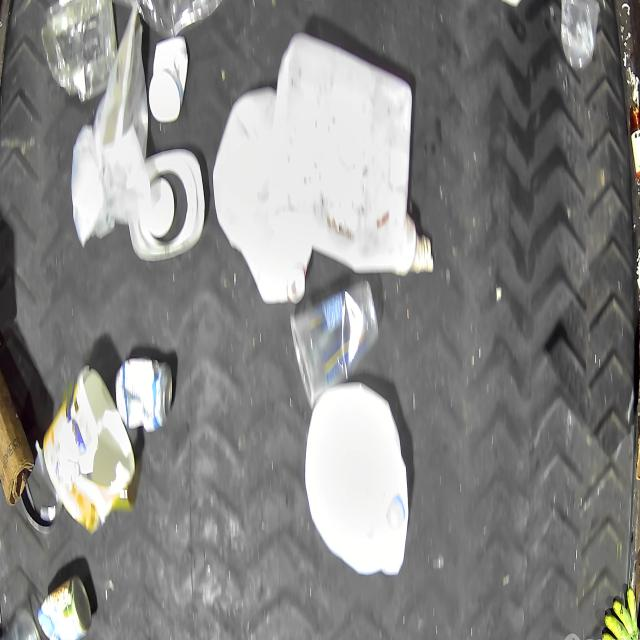can: (114, 353, 174, 435), (36, 572, 92, 640), (147, 35, 188, 126)
milk_jug: (276, 32, 434, 274), (213, 88, 313, 304), (306, 384, 411, 580)
plastic_bottle: (126, 0, 234, 39)
